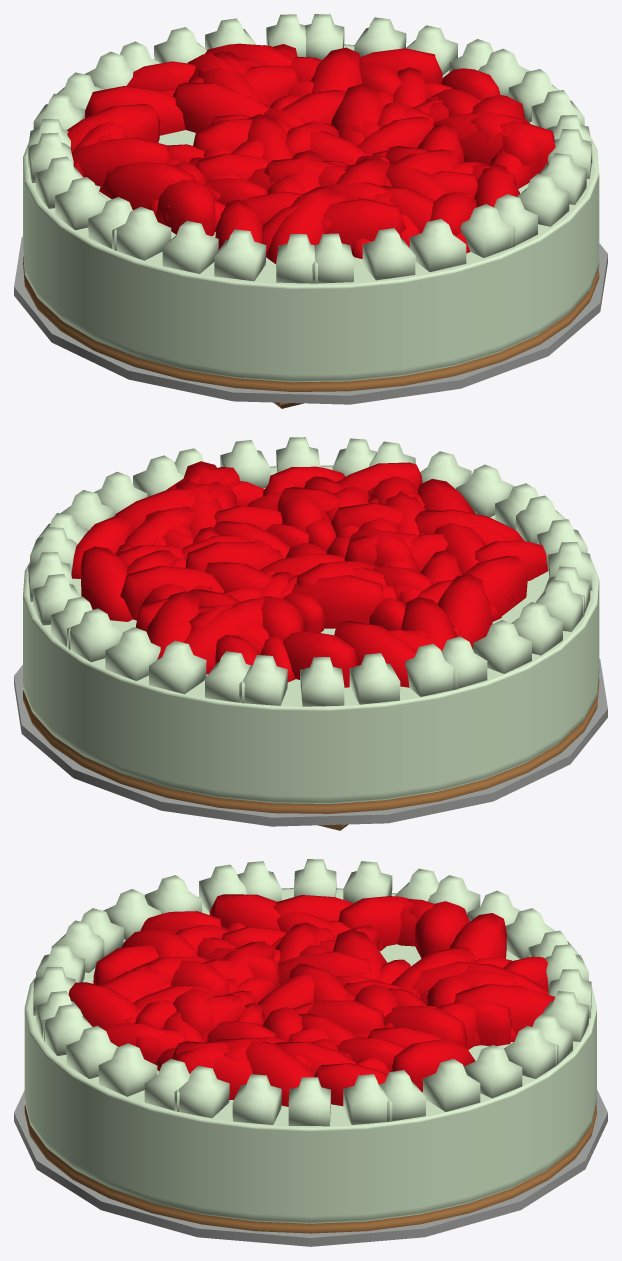
Rendered from Torta2.fbx.
3 views of the same model, one above another, from view 1: azimuth 30°, elevation 25°; view 2: azimuth 150°, elevation 25°; view 3: azimuth 270°, elevation 25° (orthographic).
Visible parts, largest first — view 1: Cylinder.015, Cube.081, Cube.082, Cylinder.015|Cube.075|Dupli|87, Cylinder.015|Cube.075|Dupli|119, Cylinder.015|Cube.075|Dupli|123, Cylinder.015|Cube.075|Dupli|92, Cylinder.015|Cube.075|Dupli|117, Cylinder.015|Cube.075|Dupli|97, Cylinder.015|Cube.075|Dupli|108, Cylinder.015|Cube.075|Dupli|90, Cylinder.015|Cube.075|Dupli|68 (+42 smaller); view 2: Cylinder.015, Cube.081, Cube.082, Cylinder.015|Cube.075|Dupli|23, Cylinder.015|Cube.075|Dupli|52, Cylinder.015|Cube.075|Dupli|119, Cylinder.015|Cube.075|Dupli|90, Cylinder.015|Cube.075|Dupli|44, Cylinder.015|Cube.075|Dupli|97, Cylinder.015|Cube.075|Dupli|117, Cylinder.015|Cube.075|Dupli|55, Cylinder.015|Cube.075|Dupli|31 (+43 smaller); view 3: Cylinder.015, Cube.081, Cube.082, Cylinder.015|Cube.075|Dupli|55, Cylinder.015|Cube.075|Dupli|74, Cylinder.015|Cube.075|Dupli|52, Cylinder.015|Cube.075|Dupli|92, Cylinder.015|Cube.075|Dupli|83, Cylinder.015|Cube.075|Dupli|90, Cylinder.015|Cube.075|Dupli|117, Cylinder.015|Cube.075|Dupli|44, Cylinder.015|Cube.075|Dupli|97 (+46 smaller).
Boxes of the visible parts, x1,y1,x2,y2 form: Cylinder.015: (23, 44, 599, 391); Cube.081: (28, 14, 592, 283); Cube.082: (14, 236, 607, 408); Cylinder.015|Cube.075|Dupli|87: (172, 82, 270, 132); Cylinder.015|Cube.075|Dupli|119: (99, 162, 194, 210); Cylinder.015|Cube.075|Dupli|123: (323, 199, 406, 250); Cylinder.015|Cube.075|Dupli|92: (71, 137, 170, 186); Cylinder.015|Cube.075|Dupli|117: (155, 179, 216, 236); Cylinder.015|Cube.075|Dupli|97: (85, 86, 185, 135); Cylinder.015|Cube.075|Dupli|108: (266, 186, 337, 263); Cylinder.015|Cube.075|Dupli|90: (67, 104, 160, 152); Cylinder.015|Cube.075|Dupli|68: (459, 122, 555, 173); Cylinder.015: (23, 465, 599, 813); Cube.081: (28, 437, 592, 706); Cube.082: (14, 659, 607, 830); Cylinder.015|Cube.075|Dupli|23: (292, 575, 384, 628); Cylinder.015|Cube.075|Dupli|52: (80, 546, 132, 621); Cylinder.015|Cube.075|Dupli|119: (437, 573, 492, 649); Cylinder.015|Cube.075|Dupli|90: (334, 621, 416, 687); Cylinder.015|Cube.075|Dupli|44: (120, 566, 224, 620); Cylinder.015|Cube.075|Dupli|97: (282, 631, 357, 687); Cylinder.015|Cube.075|Dupli|117: (462, 556, 527, 616); Cylinder.015|Cube.075|Dupli|55: (146, 591, 199, 659); Cylinder.015|Cube.075|Dupli|31: (185, 542, 282, 571); Cylinder.015: (24, 888, 596, 1233); Cube.081: (33, 859, 591, 1126); Cube.082: (14, 1090, 607, 1246); Cylinder.015|Cube.075|Dupli|55: (454, 984, 554, 1034); Cylinder.015|Cube.075|Dupli|74: (237, 1038, 314, 1106); Cylinder.015|Cube.075|Dupli|52: (391, 1040, 475, 1092); Cylinder.015|Cube.075|Dupli|92: (338, 896, 409, 945); Cylinder.015|Cube.075|Dupli|83: (68, 982, 137, 1028); Cylinder.015|Cube.075|Dupli|90: (415, 901, 469, 958); Cylinder.015|Cube.075|Dupli|117: (209, 894, 280, 929); Cylinder.015|Cube.075|Dupli|44: (384, 1005, 467, 1046); Cylinder.015|Cube.075|Dupli|97: (450, 913, 506, 960).
Bounding box in the file's own units: 28.82 × 12.74 × 28.82.
